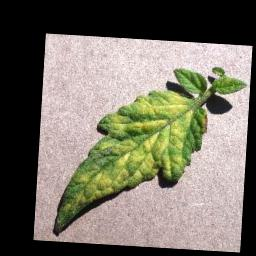Leaf_Mold: (52, 83, 195, 242), (198, 108, 209, 136)
